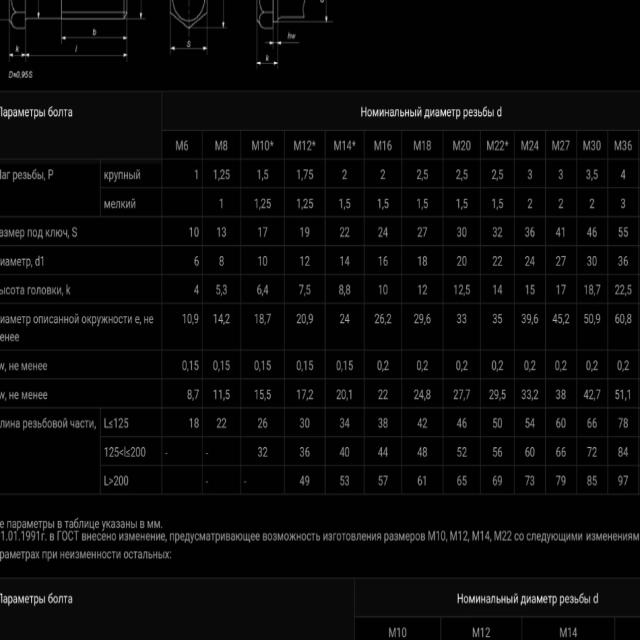marking_line: (25, 31, 129, 62), (61, 20, 129, 44), (169, 30, 210, 56), (256, 29, 280, 70), (208, 0, 231, 31), (264, 30, 299, 49), (306, 0, 333, 24), (8, 30, 28, 62), (128, 1, 147, 21), (36, 0, 41, 18)
numeric: (193, 167, 202, 184), (263, 445, 270, 458), (494, 530, 502, 541), (380, 169, 387, 181), (527, 197, 534, 209), (524, 475, 531, 487), (219, 198, 225, 211), (194, 359, 200, 372), (461, 226, 467, 239), (294, 140, 301, 151), (373, 314, 380, 325), (560, 284, 567, 295), (595, 313, 602, 324), (401, 627, 408, 638), (212, 169, 218, 181), (226, 169, 232, 181), (223, 139, 229, 151), (193, 312, 199, 324), (221, 417, 227, 429), (266, 313, 272, 325), (341, 168, 347, 180), (383, 388, 389, 400), (417, 227, 423, 239), (417, 446, 423, 458), (427, 139, 433, 151), (456, 255, 462, 267), (458, 283, 464, 295), (455, 359, 461, 371), (453, 388, 459, 400), (465, 388, 471, 400), (456, 417, 462, 429), (492, 255, 498, 267), (530, 226, 536, 238), (524, 254, 530, 266), (565, 139, 571, 151), (589, 197, 595, 209), (586, 226, 592, 238), (564, 313, 570, 325), (619, 313, 625, 325), (462, 530, 468, 542), (265, 138, 270, 152), (186, 314, 193, 324), (464, 284, 471, 294), (520, 313, 527, 323), (184, 141, 190, 152), (219, 170, 225, 181), (263, 169, 269, 180), (194, 284, 200, 295), (194, 417, 200, 428), (256, 284, 262, 295), (263, 284, 269, 295), (257, 417, 263, 428), (296, 314, 302, 325), (345, 227, 351, 238), (339, 227, 345, 238), (338, 284, 344, 295), (383, 256, 389, 267), (386, 314, 392, 325), (377, 389, 383, 400), (422, 284, 428, 295), (424, 360, 430, 371), (417, 475, 423, 486), (462, 255, 468, 266), (456, 313, 462, 324), (462, 475, 468, 486), (499, 140, 505, 151), (491, 169, 497, 180), (491, 359, 497, 370), (497, 417, 503, 428), (559, 140, 565, 151), (555, 255, 561, 266), (561, 255, 567, 266), (595, 140, 601, 151), (587, 256, 593, 267), (592, 256, 598, 267), (588, 284, 594, 295), (620, 169, 626, 180), (562, 360, 568, 371), (624, 360, 630, 371), (555, 475, 561, 486), (592, 447, 598, 458), (257, 445, 262, 458), (299, 416, 304, 429), (383, 283, 388, 296), (414, 388, 419, 401), (426, 389, 431, 402), (423, 417, 428, 430), (423, 446, 428, 459), (461, 139, 466, 152), (466, 138, 471, 151), (456, 168, 461, 181), (456, 474, 461, 487), (524, 359, 529, 372), (533, 387, 538, 400), (587, 474, 592, 487), (260, 199, 266, 209), (194, 227, 200, 237), (194, 388, 199, 400), (213, 359, 218, 371), (218, 314, 224, 324), (215, 284, 220, 296), (259, 313, 264, 325), (267, 359, 272, 371), (259, 389, 264, 401), (301, 313, 306, 325), (301, 388, 306, 400), (309, 389, 314, 401), (305, 418, 311, 428), (346, 198, 352, 208), (345, 256, 351, 266), (340, 314, 346, 324), (345, 313, 350, 325), (345, 447, 351, 457), (340, 474, 345, 486), (383, 226, 388, 238), (377, 359, 382, 371), (383, 475, 389, 485), (417, 168, 422, 180), (424, 197, 429, 209), (422, 256, 428, 266), (456, 227, 462, 237), (463, 359, 468, 371), (457, 446, 462, 458), (498, 226, 503, 238), (501, 388, 506, 400), (493, 446, 498, 458), (498, 446, 503, 458), (493, 474, 498, 486), (497, 474, 502, 486), (561, 226, 566, 238), (586, 169, 591, 181), (595, 283, 600, 295), (622, 139, 627, 151), (627, 283, 632, 295), (620, 388, 625, 400), (596, 388, 601, 400), (555, 418, 561, 428), (561, 417, 566, 429), (524, 447, 530, 457), (530, 447, 536, 457), (530, 474, 535, 486), (592, 476, 598, 486), (618, 474, 623, 486), (556, 445, 561, 457), (561, 446, 566, 458), (119, 417, 124, 429), (485, 627, 490, 639), (507, 530, 512, 542), (528, 167, 532, 181), (256, 169, 261, 180), (182, 360, 187, 371), (225, 360, 230, 371), (225, 313, 230, 324), (219, 255, 224, 266), (307, 140, 312, 151), (309, 169, 314, 180), (303, 198, 308, 209), (299, 226, 304, 237), (305, 255, 310, 266), (308, 313, 313, 324), (297, 360, 302, 371), (296, 389, 301, 400), (300, 446, 305, 457), (347, 140, 352, 151), (346, 284, 351, 295), (337, 389, 342, 400), (345, 475, 350, 486), (378, 227, 383, 238), (380, 314, 385, 325), (384, 447, 389, 458), (424, 169, 429, 180), (417, 284, 422, 295), (426, 313, 431, 324), (416, 360, 421, 371), (419, 390, 424, 401), (417, 417, 422, 428), (464, 168, 469, 179), (462, 313, 467, 324), (462, 447, 467, 458), (499, 198, 504, 209), (492, 313, 497, 324), (498, 360, 503, 371), (489, 389, 494, 400), (494, 388, 499, 399), (492, 417, 497, 428), (529, 140, 534, 151), (534, 140, 539, 151), (559, 198, 564, 209), (558, 168, 563, 179), (593, 168, 598, 179), (627, 140, 632, 151), (621, 198, 626, 209), (618, 226, 623, 237), (614, 284, 619, 295), (620, 284, 625, 295), (534, 314, 539, 325), (527, 313, 532, 324), (531, 360, 536, 371), (593, 360, 598, 371), (584, 389, 589, 400), (589, 389, 594, 400), (521, 389, 526, 400), (525, 418, 530, 429), (587, 417, 592, 428), (561, 475, 566, 486), (623, 475, 628, 486), (618, 446, 623, 457), (124, 417, 129, 428), (109, 447, 114, 458), (114, 447, 119, 458), (114, 476, 119, 487), (131, 447, 136, 458), (136, 447, 141, 458), (441, 531, 446, 542), (485, 531, 490, 542), (502, 530, 507, 541), (309, 359, 313, 372), (254, 199, 259, 209), (222, 227, 227, 237), (194, 256, 199, 266), (216, 418, 221, 428), (226, 389, 231, 399), (223, 285, 228, 295), (303, 169, 308, 179), (299, 284, 304, 294), (339, 257, 344, 267), (336, 360, 341, 370), (349, 360, 354, 370), (339, 447, 344, 457), (384, 360, 389, 370), (378, 418, 383, 428), (379, 475, 384, 485), (423, 227, 428, 237), (414, 315, 419, 325), (453, 284, 458, 294), (498, 284, 503, 294), (624, 227, 629, 237), (586, 360, 591, 370), (617, 361, 622, 371), (561, 389, 566, 399), (531, 418, 536, 428), (572, 628, 577, 638), (514, 532, 519, 542), (526, 532, 531, 542), (263, 226, 267, 238), (189, 360, 193, 372), (213, 313, 217, 325), (263, 417, 267, 429), (307, 284, 311, 296), (300, 474, 304, 486), (340, 417, 344, 429), (345, 418, 349, 430), (388, 139, 392, 151), (378, 283, 382, 295), (418, 255, 422, 267), (419, 312, 423, 324), (464, 198, 468, 210), (463, 417, 467, 429), (492, 197, 496, 209), (556, 283, 560, 295), (618, 255, 622, 267), (555, 359, 559, 371), (584, 312, 588, 324), (589, 312, 593, 324), (627, 389, 631, 401), (624, 417, 628, 429), (624, 446, 628, 458), (587, 446, 591, 458), (119, 475, 123, 487), (481, 627, 485, 639), (568, 626, 572, 638), (397, 626, 401, 638), (458, 529, 462, 541), (92, 27, 97, 36), (267, 199, 272, 208), (305, 447, 310, 456), (341, 390, 346, 399), (520, 532, 525, 541), (217, 227, 221, 238), (190, 228, 194, 239), (182, 314, 186, 325), (188, 389, 192, 400), (189, 418, 193, 429), (214, 390, 218, 401), (263, 256, 267, 267), (254, 313, 258, 324), (254, 389, 258, 400), (267, 389, 271, 400), (305, 227, 309, 238), (306, 475, 310, 486), (343, 360, 347, 371), (378, 255, 382, 266), (417, 198, 421, 209), (456, 198, 460, 209), (459, 388, 463, 399), (495, 140, 499, 151), (500, 168, 504, 179), (493, 226, 497, 237), (493, 284, 497, 295), (498, 313, 502, 324), (525, 226, 529, 237), (531, 255, 535, 266), (531, 284, 535, 295), (593, 227, 597, 238), (584, 284, 588, 295), (624, 255, 628, 266), (553, 313, 557, 324), (558, 313, 562, 324), (615, 313, 619, 324), (627, 313, 631, 324), (616, 389, 620, 400), (556, 389, 560, 400), (527, 389, 531, 400), (593, 417, 597, 428), (436, 531, 440, 542), (480, 530, 484, 541), (255, 360, 259, 370), (302, 140, 306, 150), (310, 199, 314, 209), (300, 256, 304, 266), (342, 141, 346, 151), (339, 198, 343, 208), (349, 390, 353, 400), (384, 418, 388, 428), (378, 447, 382, 457), (498, 256, 502, 266), (556, 227, 560, 237), (591, 141, 595, 151), (618, 418, 622, 428), (124, 476, 128, 486), (142, 447, 146, 457), (261, 140, 264, 153), (15, 44, 19, 53), (287, 31, 291, 40), (291, 33, 297, 39), (221, 360, 224, 372), (297, 168, 300, 180), (297, 197, 300, 209), (385, 199, 389, 208), (114, 417, 117, 429), (304, 360, 307, 371), (383, 140, 386, 151), (378, 198, 381, 209), (422, 140, 425, 151), (526, 284, 529, 295), (105, 446, 108, 457), (21, 71, 25, 79), (29, 70, 33, 78), (187, 40, 191, 48), (265, 54, 269, 62), (259, 227, 262, 237), (259, 256, 262, 266), (423, 476, 426, 486), (25, 70, 28, 79), (219, 390, 222, 399), (262, 360, 264, 371), (17, 71, 20, 78), (75, 45, 78, 52)
special_symbol: (269, 141, 275, 148), (352, 140, 356, 147), (312, 140, 316, 146), (320, 0, 324, 4), (304, 293, 307, 298), (306, 321, 309, 326), (301, 368, 304, 373), (306, 397, 309, 402), (302, 206, 304, 210), (301, 178, 303, 181)
